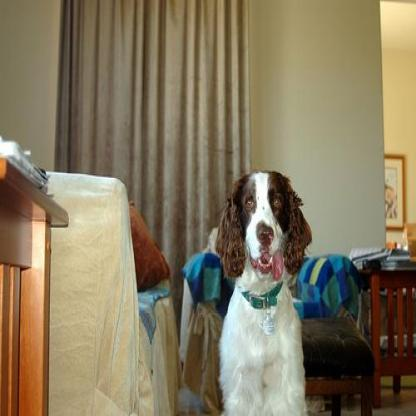English_springer: (216, 166, 312, 412)
